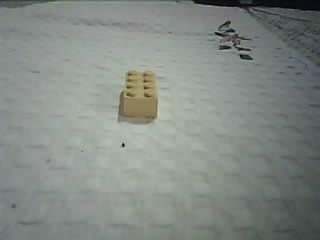lego: (119, 69, 159, 119)
